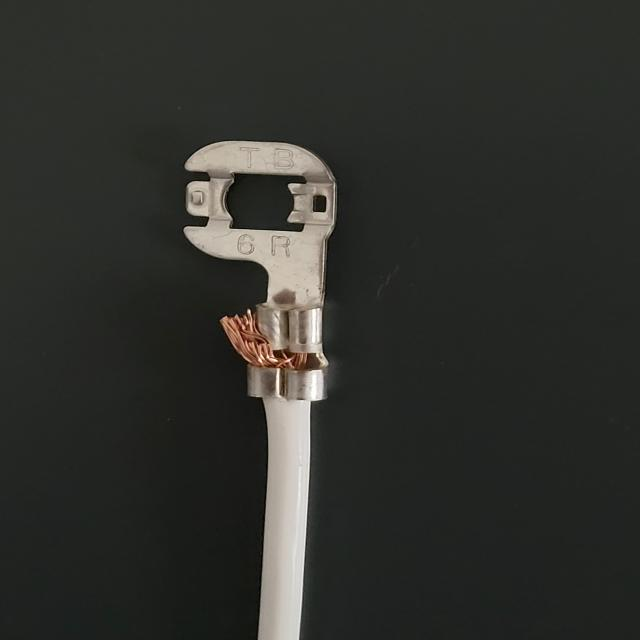defect: (183, 283, 386, 438)
